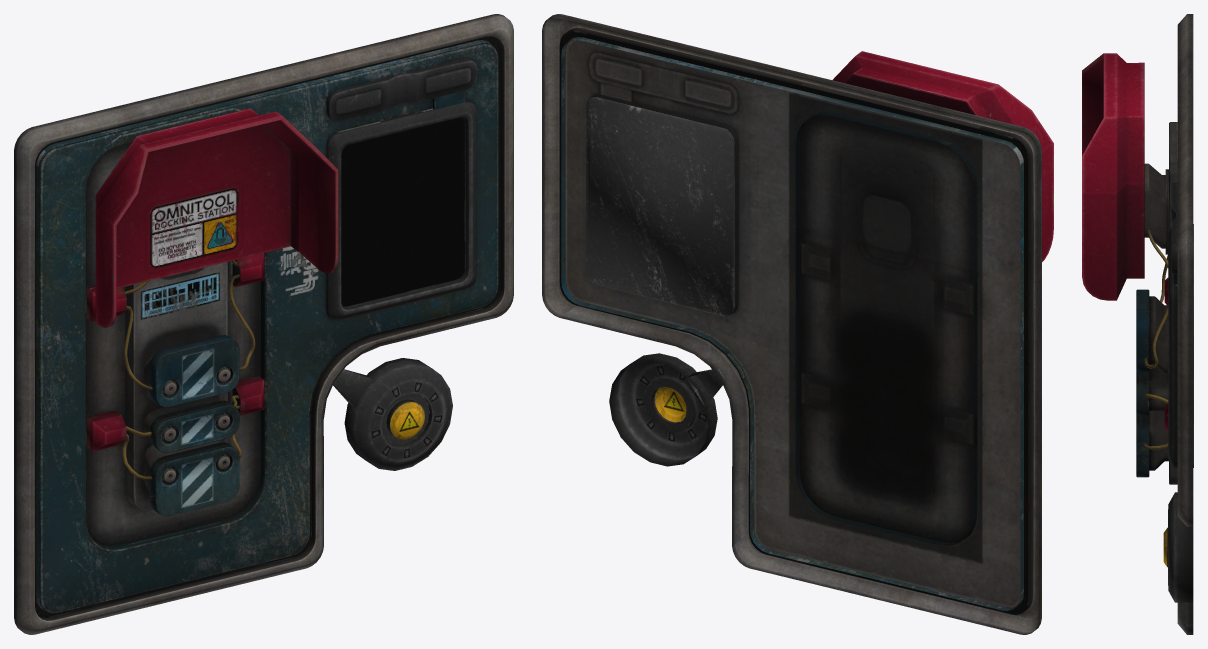
The model's file is omnislot_inside.dae.
The picture shows the model from 3 angles, left to right: view 1: azimuth 30°, elevation 25°; view 2: azimuth 150°, elevation 25°; view 3: azimuth 270°, elevation 25°; orthographic projection. The views are drawn at different scales.
Parts seen in each view (by area): view 1: polySurface39; view 2: polySurface39; view 3: polySurface39.
Part boxes in pixels (x1,y1,x2,y2): polySurface39: [14, 14, 513, 634]; polySurface39: [542, 14, 1053, 634]; polySurface39: [1082, 14, 1193, 634].
Size of the model in its own units: 0.5999 by 0.5834 by 0.1206.
Materials: 1 (1 with a texture image).
